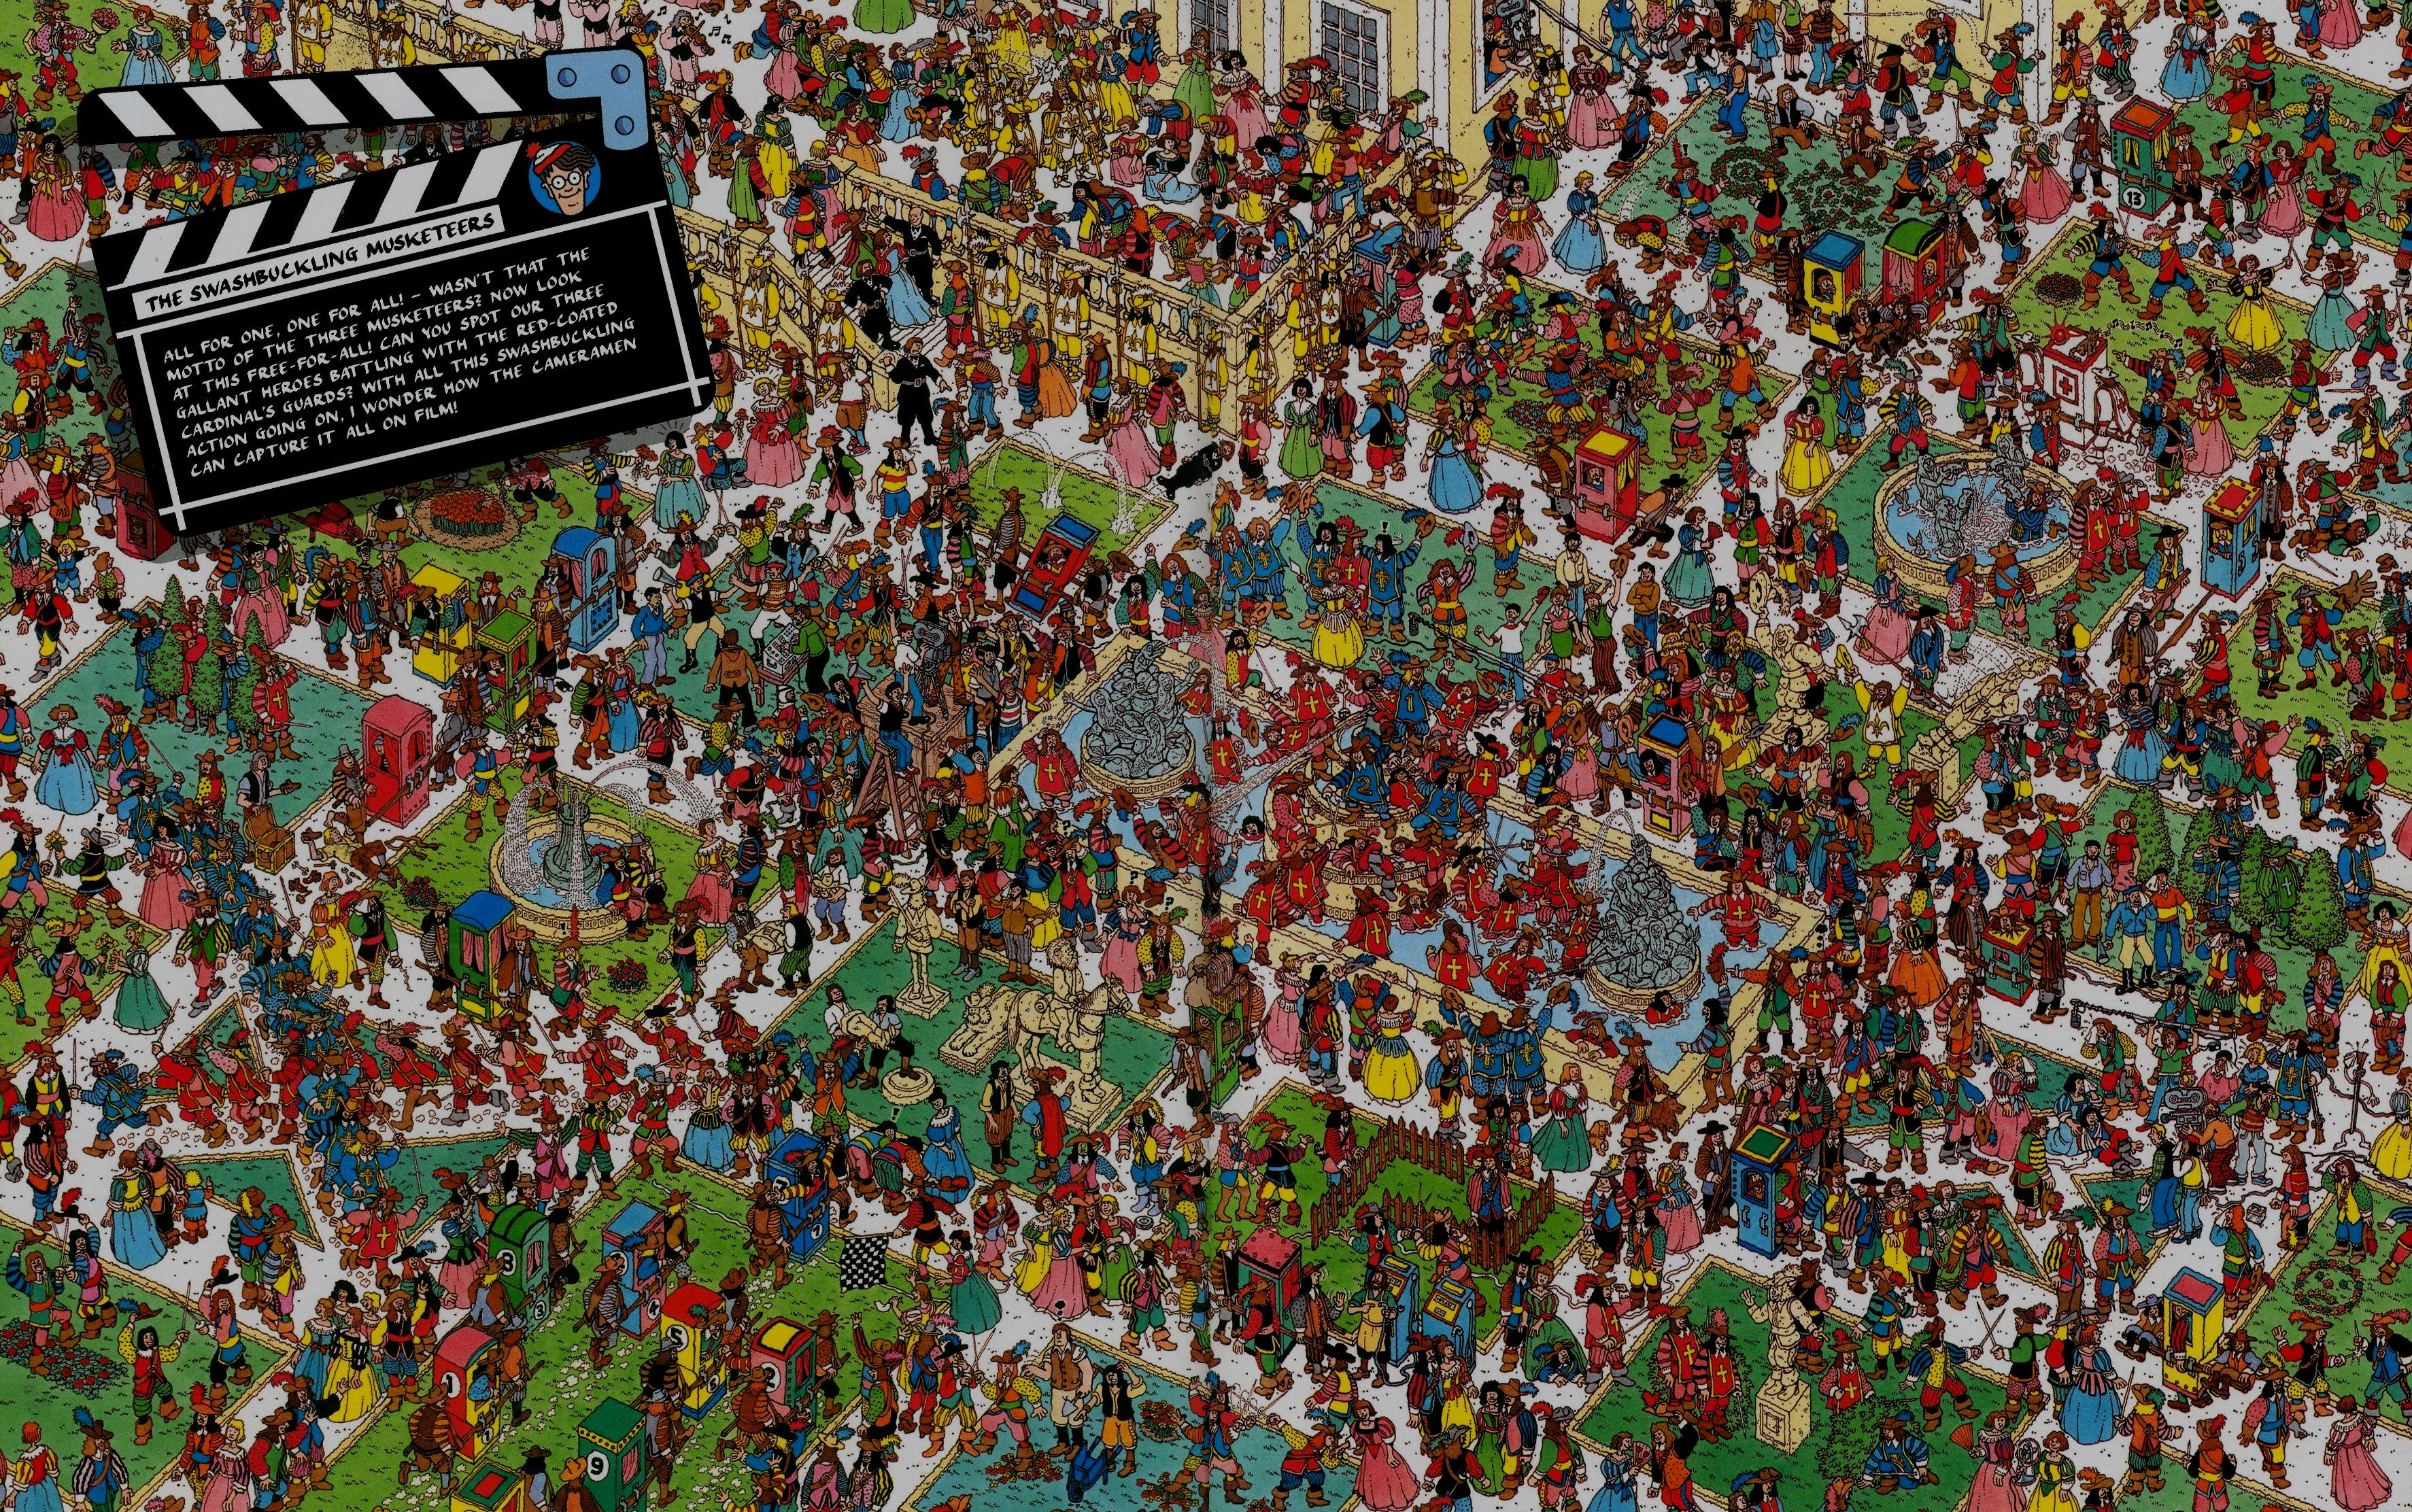waldos: (1257, 1195, 1283, 1235)
